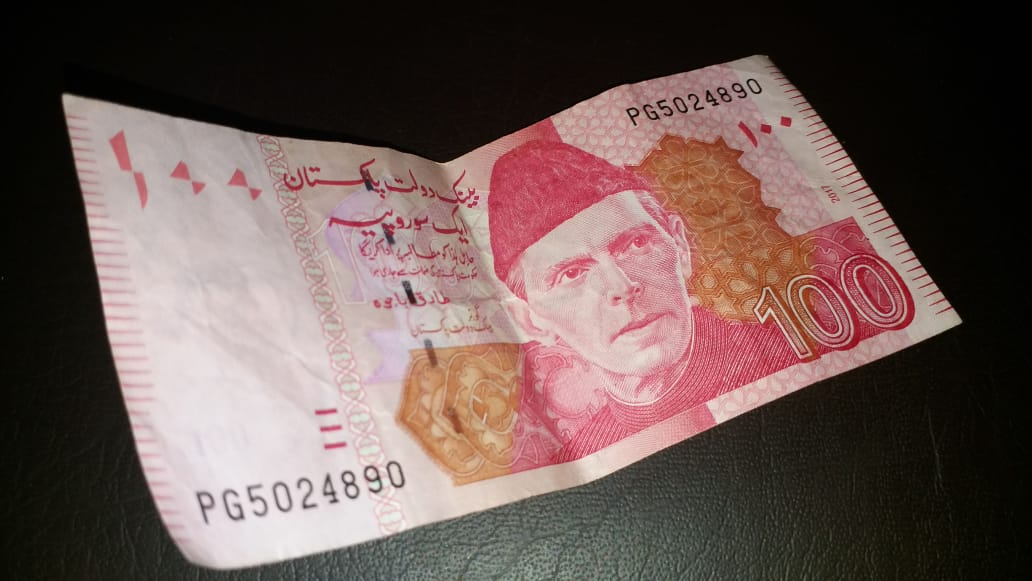100 rupee: (56, 53, 964, 564)
